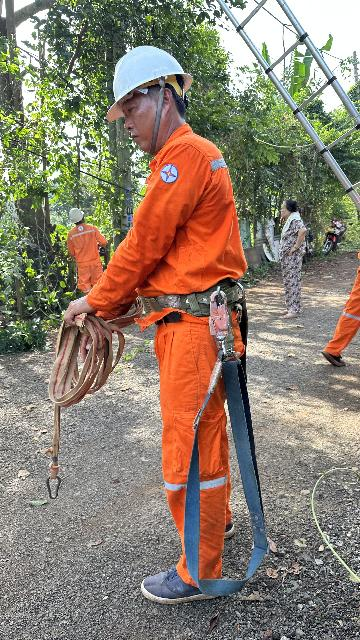harness: (127, 274, 260, 331)
helmet: (83, 35, 202, 119), (65, 205, 90, 221)
shoes: (132, 543, 232, 614), (309, 344, 356, 374)
